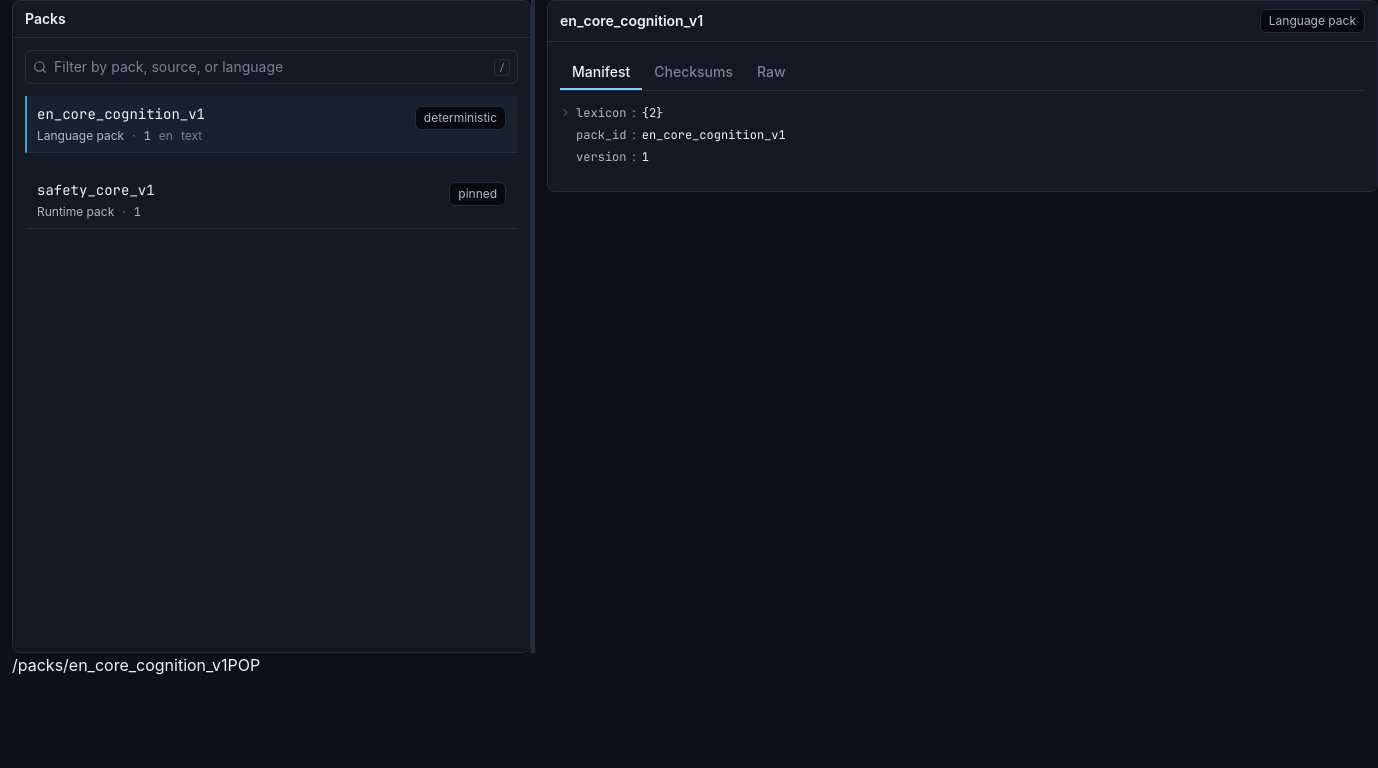
Test case: PacksRoute › surfaces the manifest checksums as the verify affordance
Step 1. Click the tab "Checksums" → (694, 72), box 642,54 -> 745,90
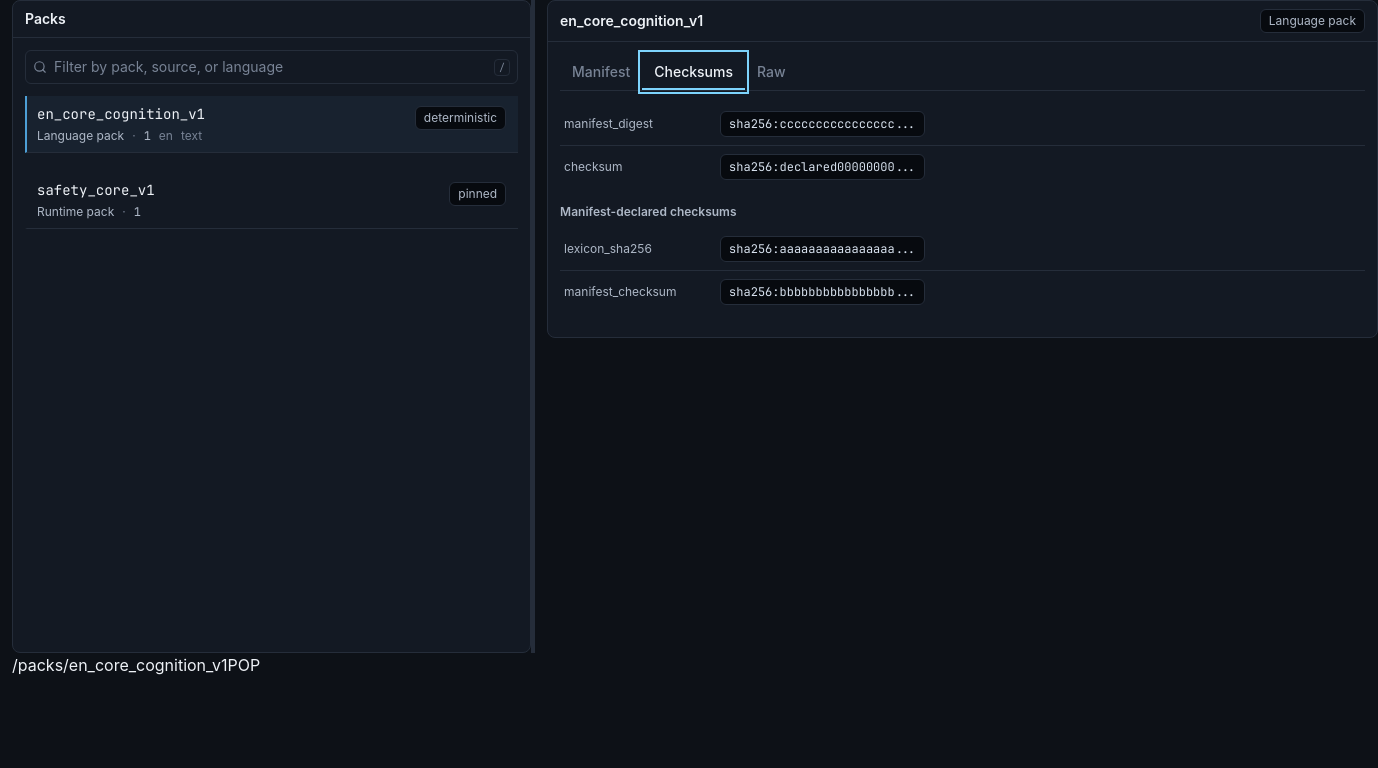
Result: the text "manifest_digest" is shown at 564,116 -> 653,131
Result: the text "lexicon_sha256" is shown at 564,241 -> 652,256
Result: the text "manifest_checksum" is shown at 564,284 -> 676,299
